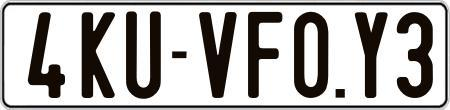0: (291, 12, 331, 103)
3: (396, 10, 436, 97)
4: (25, 12, 64, 101)
F: (248, 12, 288, 104)
K: (79, 9, 117, 100)
U: (123, 10, 159, 98)
V: (196, 12, 235, 99)
Y: (354, 11, 392, 101)
